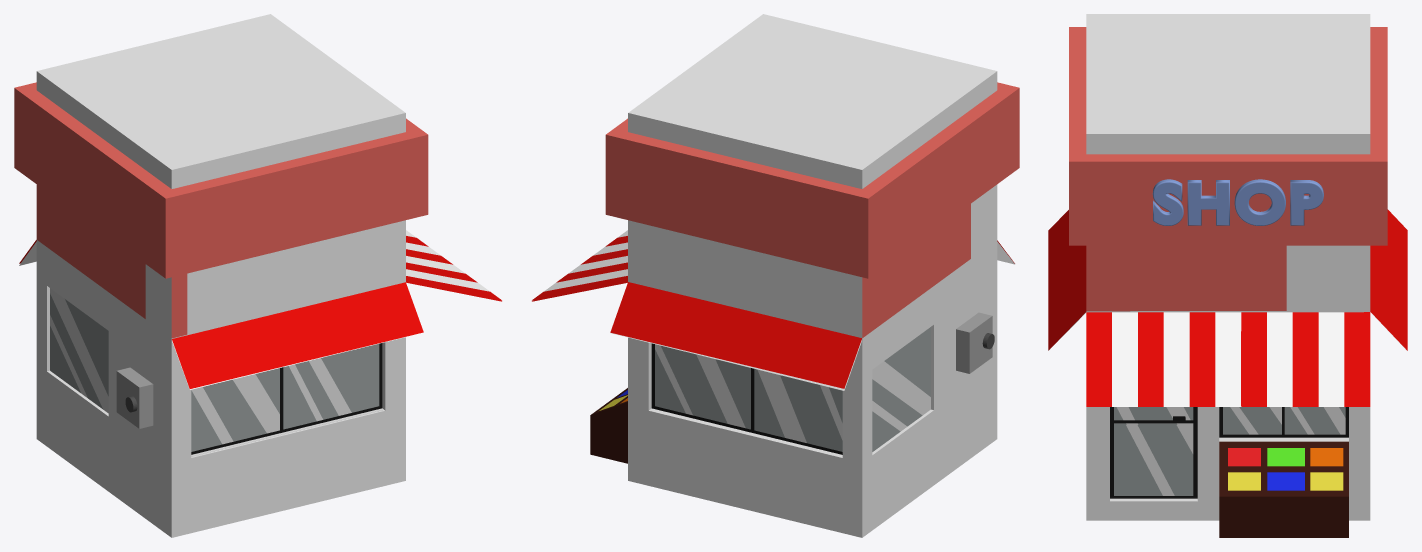
File: ShopIntérieur.fbx
The picture shows the model from 3 angles, left to right: view 1: azimuth 30°, elevation 25°; view 2: azimuth 150°, elevation 25°; view 3: azimuth 270°, elevation 25°; orthographic projection. The views are drawn at different scales.
Parts seen in each view (by area): view 1: Batiment, Toit, Aeration Cube; view 2: Batiment, Toit, Aeration Cube; view 3: Batiment, Toit, Cube, SHOP.
Part boxes in pixels (x1,y1,x2,y2): Batiment: [19, 14, 501, 537]; Toit: [14, 82, 428, 338]; Aeration Cube: [116, 367, 153, 428]; Batiment: [532, 14, 1014, 537]; Toit: [605, 82, 1019, 337]; Aeration Cube: [956, 312, 992, 373]; Batiment: [1048, 14, 1407, 537]; Toit: [1069, 27, 1387, 311]; Cube: [1110, 407, 1197, 498]; SHOP: [1152, 179, 1323, 225].
Size of the model in its own units: 720 by 726 by 612.
